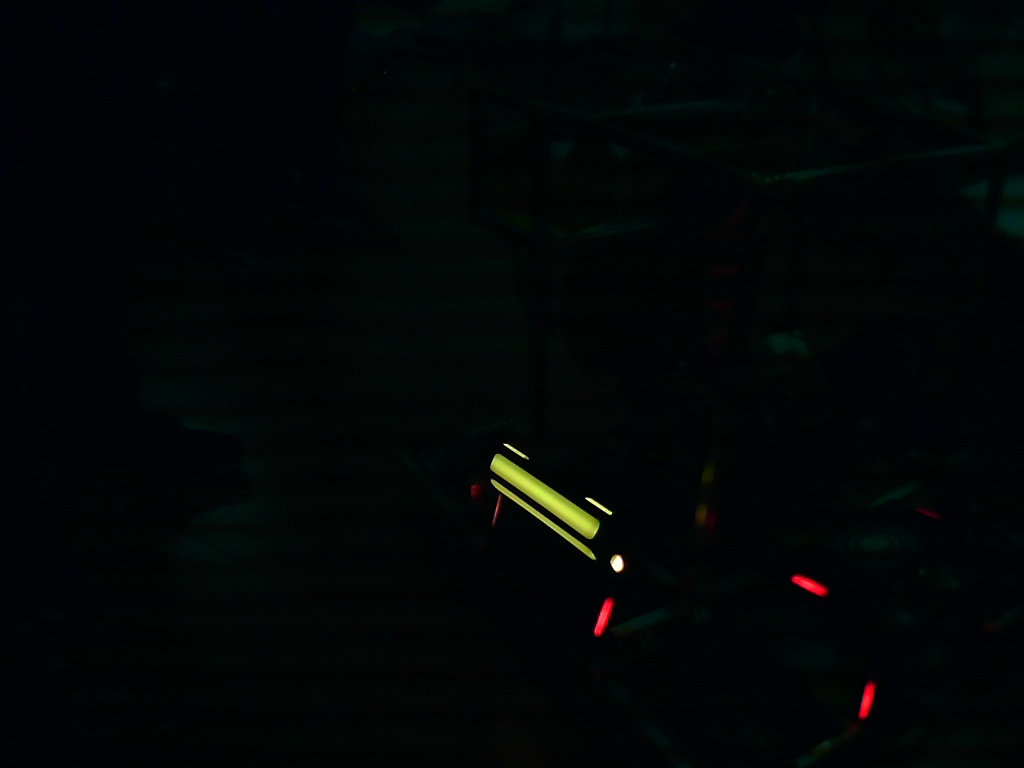lamp: (591, 592, 617, 643), (856, 679, 879, 720)
